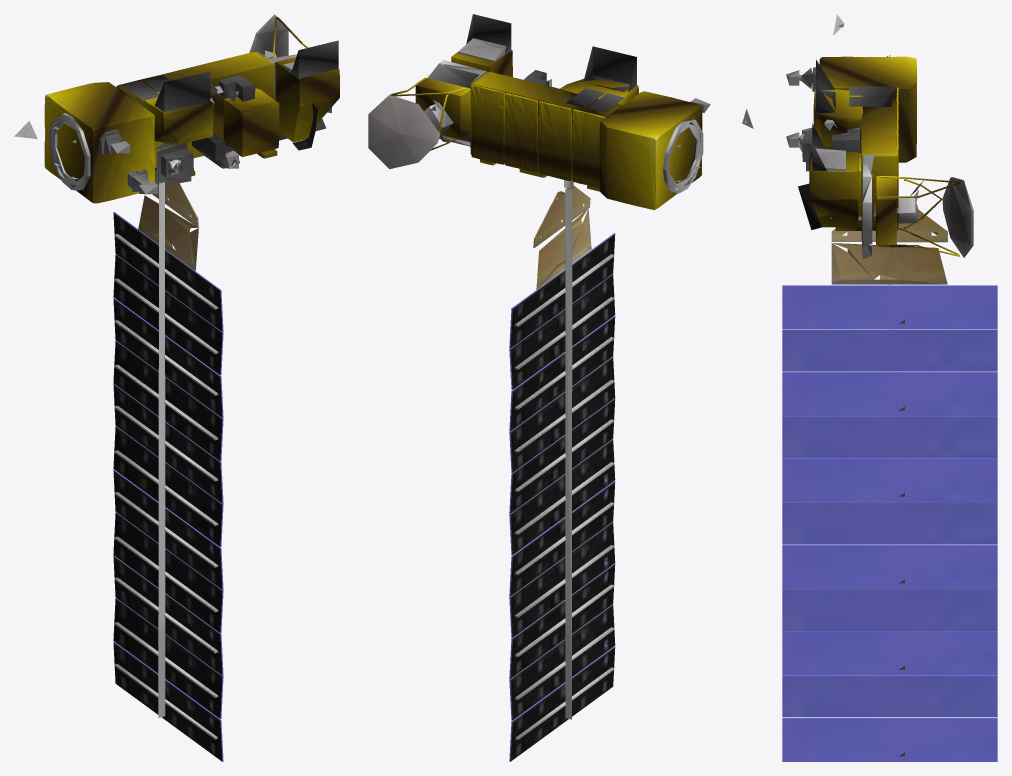
The model's file is aqua-preview.glb.
3 views of the same model, side by side, from view 1: azimuth 30°, elevation 25°; view 2: azimuth 150°, elevation 25°; view 3: azimuth 270°, elevation 25° (orthographic). The views are drawn at different scales.
Parts seen in each view (by area): view 1: tex_01, gold_2, foil_silver, shiny_panel; view 2: tex_01, gold_2, foil_silver, shiny_panel; view 3: shiny_panel, gold_2, tex_01, foil_silver, black_krinkle.
Boxes of the visible parts, x1,y1,x2,y2 form: tex_01: (14,14,296,761); gold_2: (44,17,339,203); foil_silver: (99,40,338,192); shiny_panel: (113,212,223,761); tex_01: (368,38,753,761); gold_2: (390,50,702,209); foil_silver: (424,14,692,146); shiny_panel: (509,233,614,761); shiny_panel: (782,285,997,761); gold_2: (809,56,960,256); tex_01: (782,14,997,756); foil_silver: (802,60,917,259); black_krinkle: (798,183,821,229).
Bounding box in the file's own units: 9.25 × 17.78 × 5.08.
5 materials, 4 textured.
